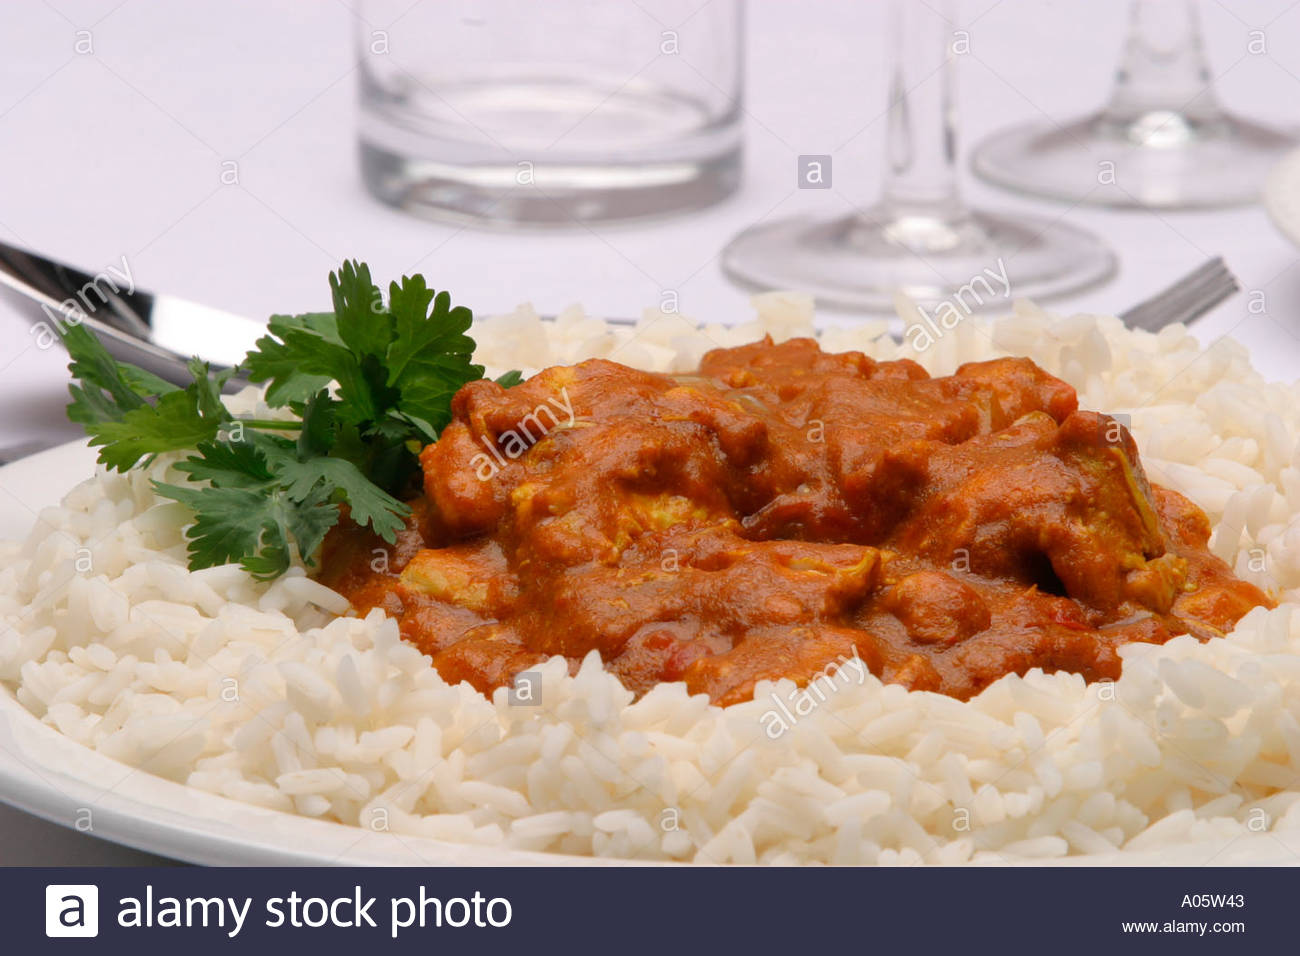plain rice: (337, 658, 1090, 821)
